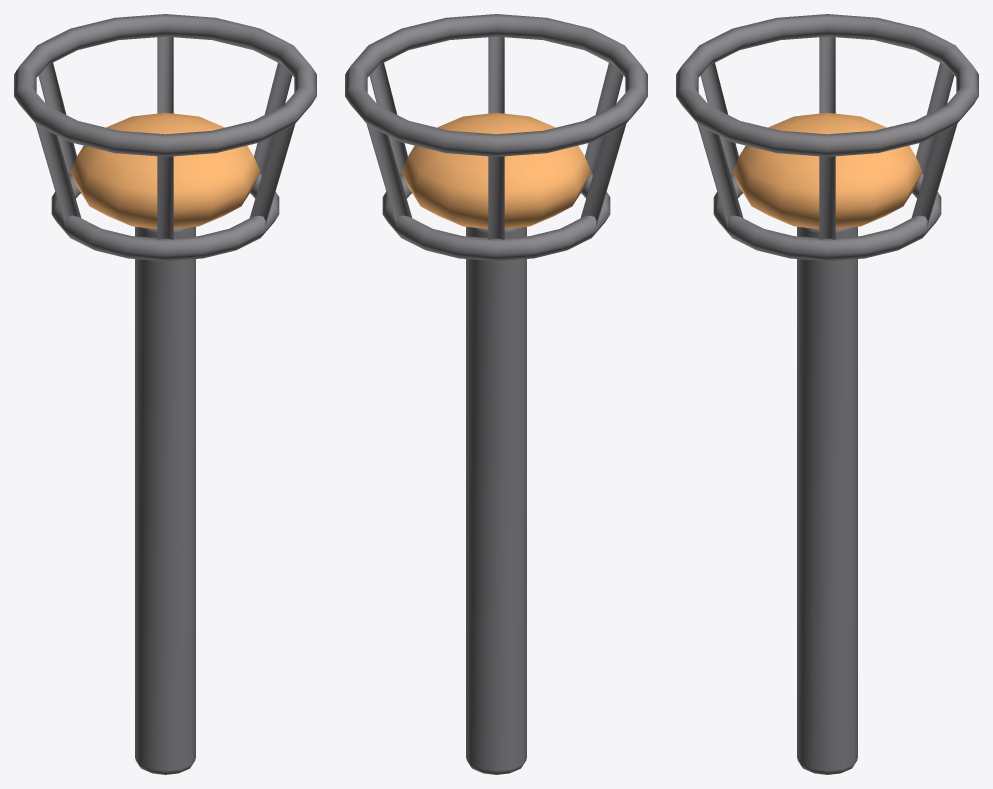
File: SkateTorch.glb
The picture shows the model from 3 angles, left to right: view 1: azimuth 30°, elevation 25°; view 2: azimuth 150°, elevation 25°; view 3: azimuth 270°, elevation 25°; orthographic projection.
Visible parts, largest first — view 1: Iron, Coals; view 2: Iron, Coals; view 3: Iron, Coals.
Boxes of the visible parts, box(x1,y1,x2,y2) form: Iron: box(14, 14, 316, 774); Coals: box(70, 112, 260, 229); Iron: box(345, 14, 647, 774); Coals: box(401, 112, 591, 229); Iron: box(676, 14, 978, 774); Coals: box(732, 112, 922, 229).
Bounding box in the file's own units: 1.62 × 4 × 1.6.
